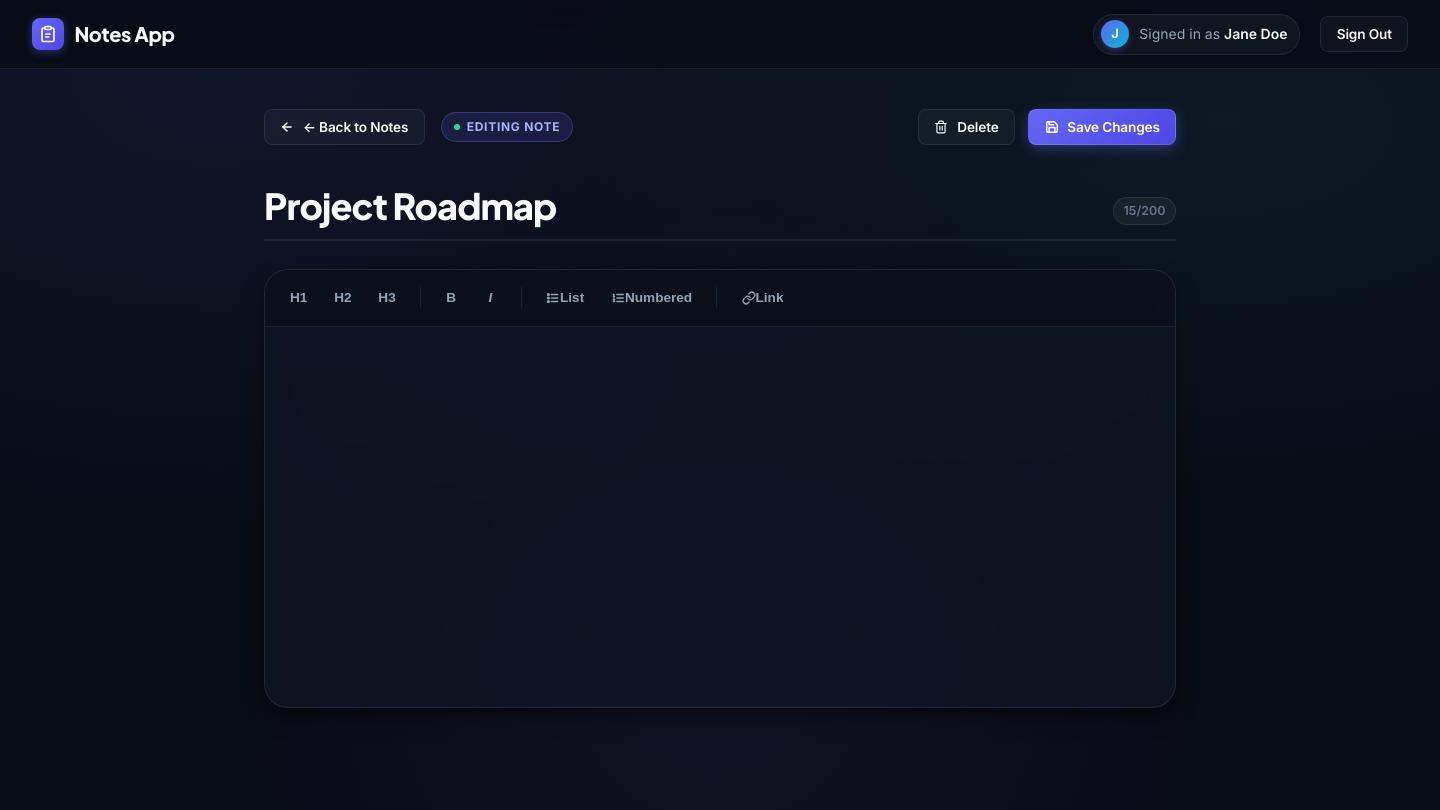
Test: Rich Text Note Editor Feature › surfaces validation error alert when save fails with validation error
Replace the text in the field with test id "note-title-input" with "Roadmap Updated" at (720, 207), box [264, 173, 1176, 241]
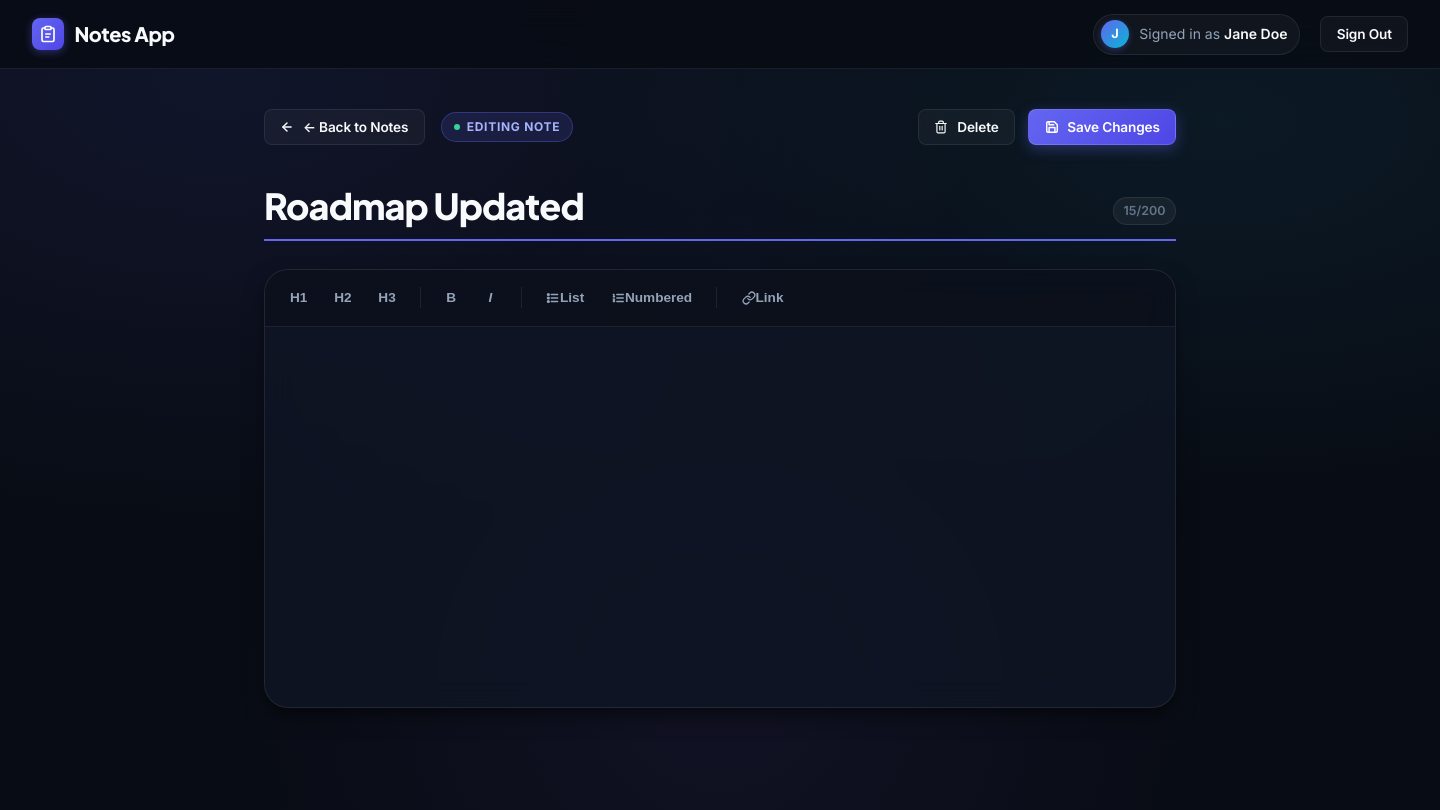
Click the button with test id "save-note-button" at (1102, 127), box [1028, 109, 1176, 145]
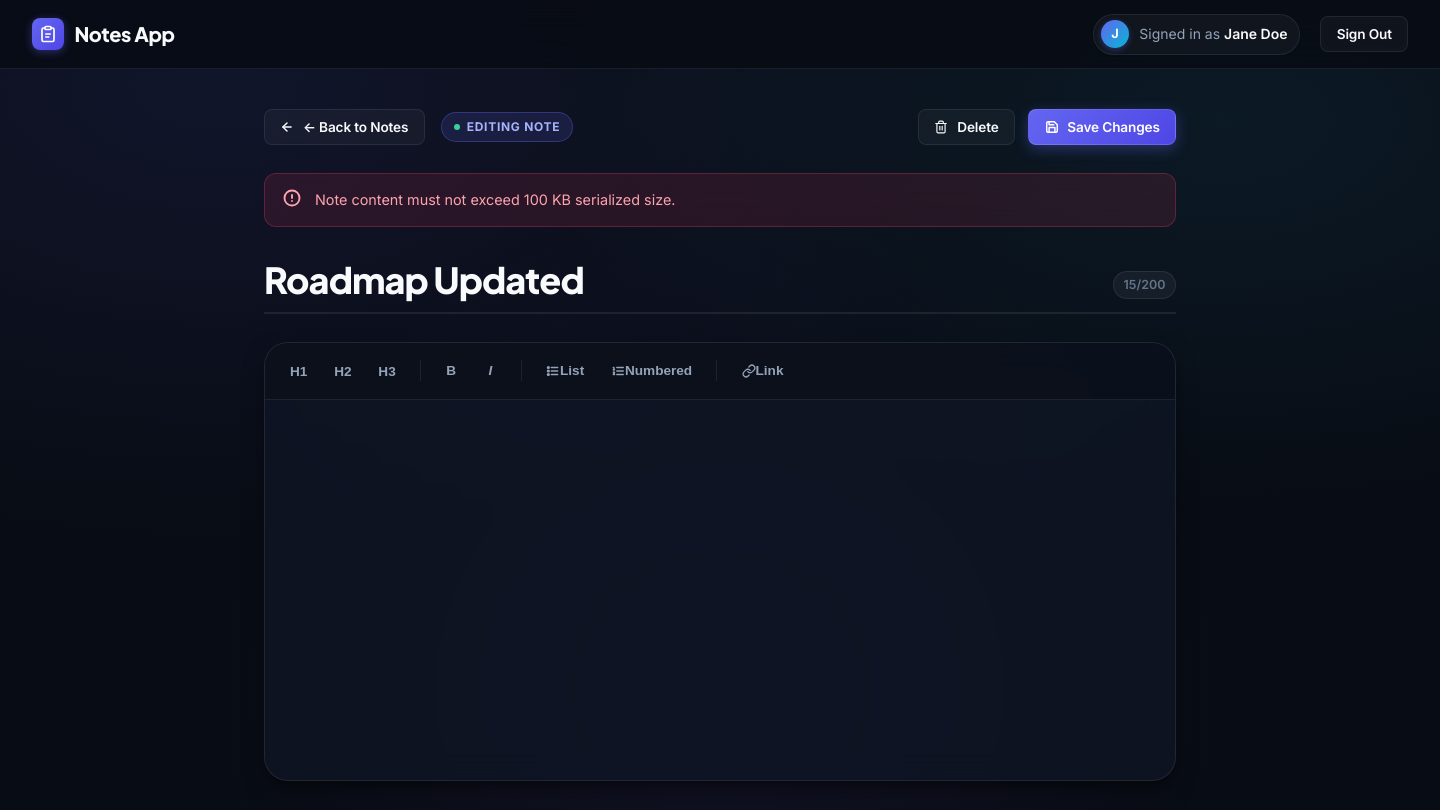
expect the text "Note content must not exceed 100 KB serialized size." is shown: met, box [315, 191, 676, 208]
